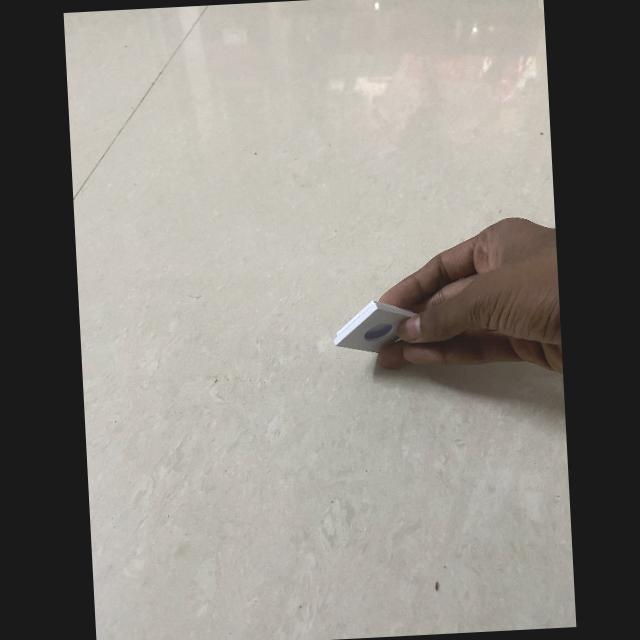RASPBERY PI CAM ENCLOSURE: (331, 298, 420, 356)
